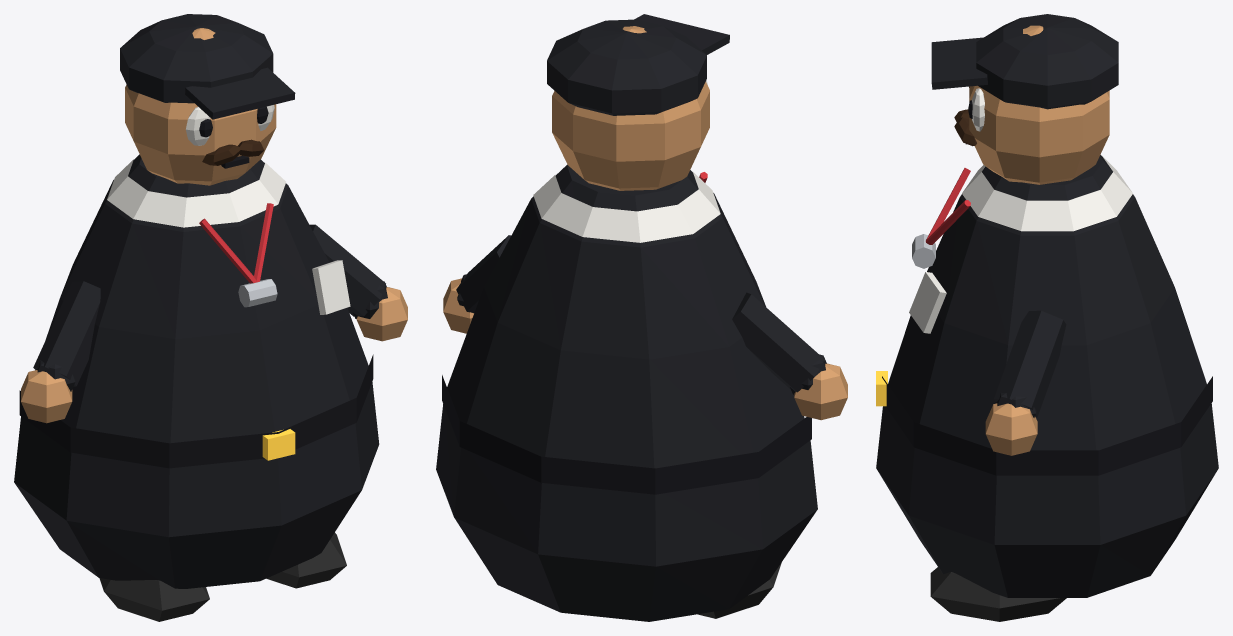
File: npc_arbitro.glb
The picture shows the model from 3 angles, left to right: view 1: azimuth 30°, elevation 25°; view 2: azimuth 150°, elevation 25°; view 3: azimuth 270°, elevation 25°; orthographic projection. The views are drawn at different scales.
Parts seen in each view (by area): view 1: body_referee_black, head_referee_black, head_skin_arena, body_black, body_white, arms_referee_black, legs_referee_boots, arms_skin_arena, cap_referee_black, props_whistle_cord (×2), face_referee_mustache, body_gold (+3 smaller); view 2: body_referee_black, head_referee_black, head_skin_arena, body_black, body_white, arms_referee_black, arms_skin_arena, cap_referee_black, legs_referee_boots; view 3: body_referee_black, head_referee_black, head_skin_arena, body_black, body_white, arms_referee_black, legs_referee_boots, cap_referee_black, arms_skin_arena, props_whistle_cord (×2), props_whistle_silver, face_referee_mustache (+1 smaller).
Part boxes in pixels (bbox=[...]): body_referee_black: bbox=[14, 154, 379, 588]; head_referee_black: bbox=[120, 14, 273, 103]; head_skin_arena: bbox=[125, 28, 276, 185]; body_black: bbox=[19, 354, 373, 468]; body_white: bbox=[107, 159, 350, 314]; arms_referee_black: bbox=[33, 224, 387, 391]; legs_referee_boots: bbox=[99, 532, 346, 621]; arms_skin_arena: bbox=[21, 287, 407, 423]; cap_referee_black: bbox=[185, 67, 295, 119]; props_whistle_cord (×2): bbox=[199, 203, 273, 283]; face_referee_mustache: bbox=[202, 139, 264, 165]; body_gold: bbox=[262, 429, 295, 460]; body_referee_black: bbox=[436, 164, 817, 621]; head_referee_black: bbox=[547, 19, 706, 115]; head_skin_arena: bbox=[552, 26, 709, 190]; body_black: bbox=[442, 375, 811, 494]; body_white: bbox=[533, 171, 720, 242]; arms_referee_black: bbox=[456, 235, 826, 394]; arms_skin_arena: bbox=[443, 278, 847, 420]; cap_referee_black: bbox=[634, 14, 729, 54]; legs_referee_boots: bbox=[698, 562, 781, 618]; body_referee_black: bbox=[876, 155, 1218, 597]; head_referee_black: bbox=[976, 14, 1118, 109]; head_skin_arena: bbox=[969, 25, 1109, 184]; body_black: bbox=[882, 376, 1212, 475]; body_white: bbox=[909, 155, 1132, 333]; arms_referee_black: bbox=[993, 310, 1066, 417]; legs_referee_boots: bbox=[930, 567, 1066, 621]; cap_referee_black: bbox=[931, 37, 987, 89]; arms_skin_arena: bbox=[985, 403, 1037, 455]; props_whistle_cord (×2): bbox=[925, 168, 970, 244]; props_whistle_silver: bbox=[912, 234, 935, 268]; face_referee_mustache: bbox=[954, 109, 976, 146].
Bounding box in the file's own units: 1.13 × 1.53 × 0.86.
